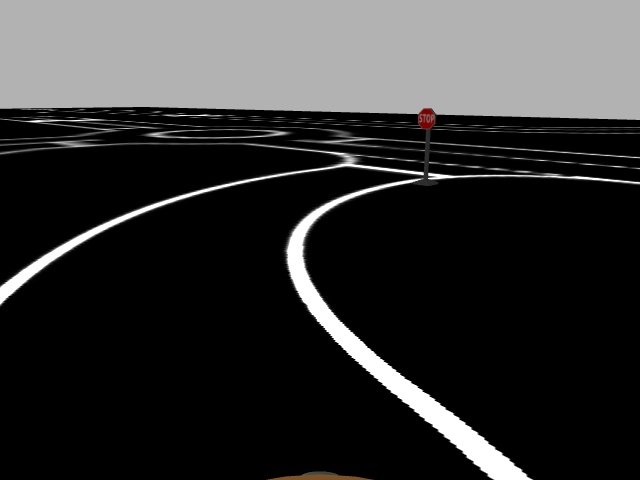stop: (415, 107, 436, 130)
